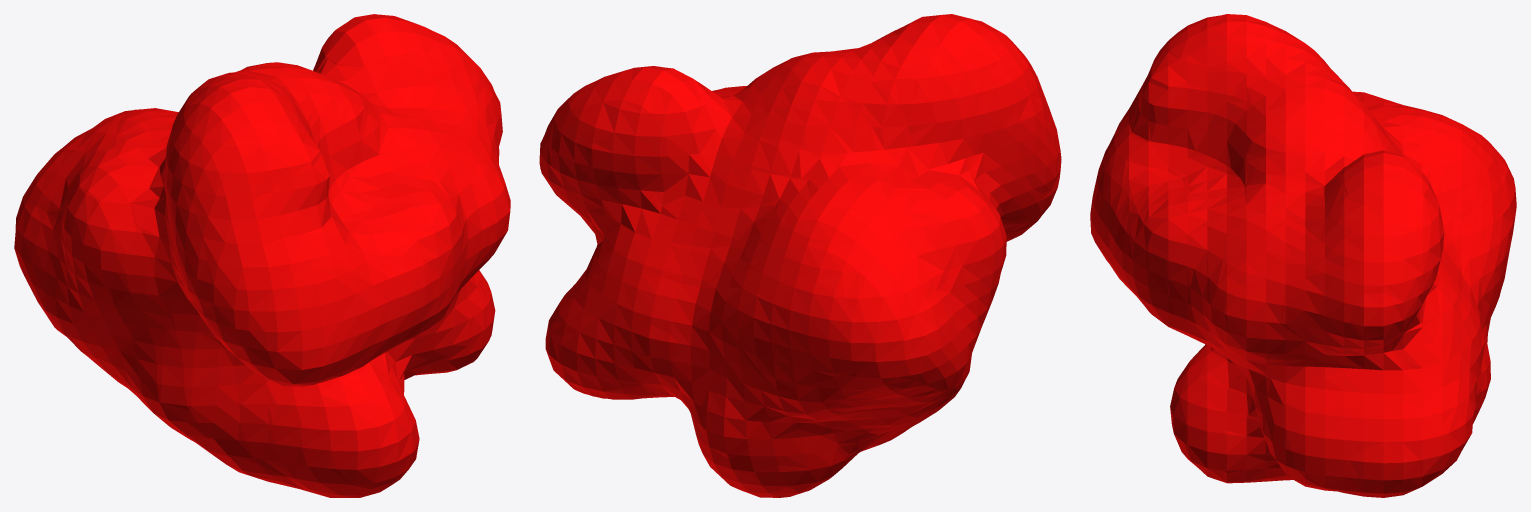
The model's file is yfbV_coarse.dae.
3 renders of one model, left to right at view 1: azimuth 30°, elevation 25°; view 2: azimuth 150°, elevation 25°; view 3: azimuth 270°, elevation 25°, orthographic. The views are drawn at different scales.
Visible parts, largest first — view 1: yfbV; view 2: yfbV; view 3: yfbV.
Boxes of the visible parts, x1,y1,x2,y2 form: yfbV: [14, 14, 510, 497]; yfbV: [539, 14, 1061, 497]; yfbV: [1090, 14, 1516, 497].
Size of the model in its own units: 44.22 by 42.26 by 39.63.
